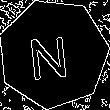N_N: (31, 27, 76, 81)
